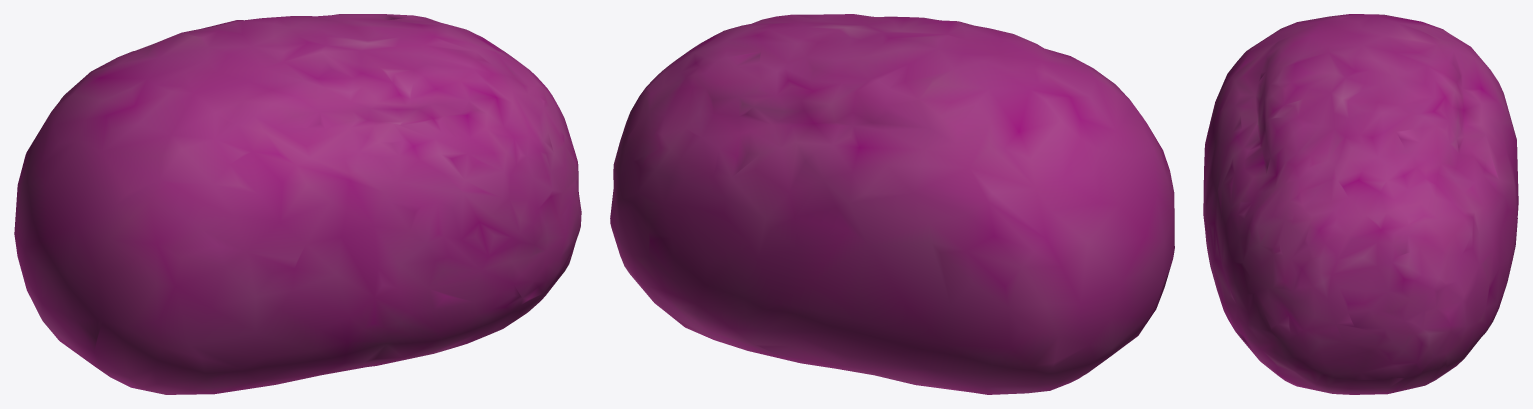
Rendered from sweeper_segment.glb.
3 renders of one model, left to right at view 1: azimuth 30°, elevation 25°; view 2: azimuth 150°, elevation 25°; view 3: azimuth 270°, elevation 25°, orthographic. The views are drawn at different scales.
Parts seen in each view (by area): view 1: geometry_0; view 2: geometry_0; view 3: geometry_0.
Boxes of the visible parts, x1,y1,x2,y2 form: geometry_0: [14, 14, 581, 394]; geometry_0: [610, 14, 1174, 394]; geometry_0: [1203, 14, 1518, 394].
Size of the model in its own units: 1.9 by 1.13 by 1.23.
